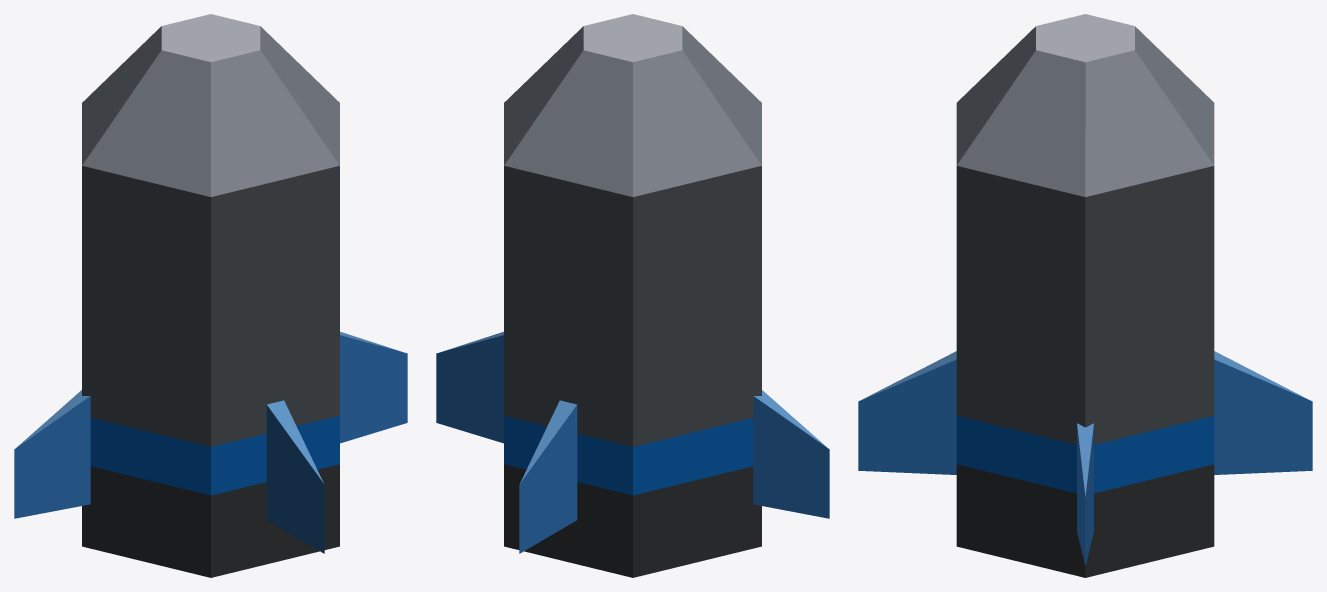
File: TB_CanonTower_Lvl3_Rocket.FBX
The picture shows the model from 3 angles, left to right: view 1: azimuth 30°, elevation 25°; view 2: azimuth 150°, elevation 25°; view 3: azimuth 270°, elevation 25°; orthographic projection.
Parts seen in each view (by area): view 1: TB_CanonTower_Lvl3_Rocket; view 2: TB_CanonTower_Lvl3_Rocket; view 3: TB_CanonTower_Lvl3_Rocket.
Boxes of the visible parts, x1,y1,x2,y2 form: TB_CanonTower_Lvl3_Rocket: (14, 14, 407, 577); TB_CanonTower_Lvl3_Rocket: (436, 14, 829, 577); TB_CanonTower_Lvl3_Rocket: (858, 14, 1312, 577).
Bounding box in the file's own units: 3 × 3.47 × 3.
